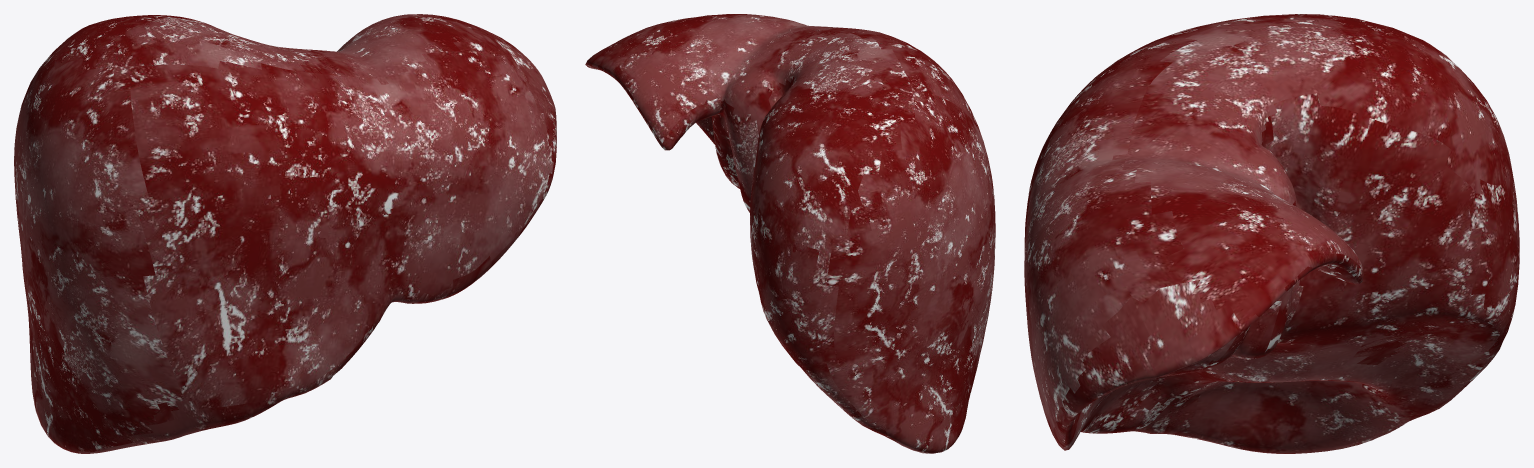
File: Liver.glb
3 views of the same model, side by side, from view 1: azimuth 30°, elevation 25°; view 2: azimuth 150°, elevation 25°; view 3: azimuth 270°, elevation 25° (orthographic). The views are drawn at different scales.
Visible parts, largest first — view 1: Liver; view 2: Liver; view 3: Liver.
Boxes of the visible parts, box(x1,y1,x2,y2) form: Liver: box(14, 14, 556, 453); Liver: box(585, 14, 995, 453); Liver: box(1024, 14, 1519, 453).
Size of the model in its own units: 0.2247 by 0.1811 by 0.1668.
1 material, 1 textured.
